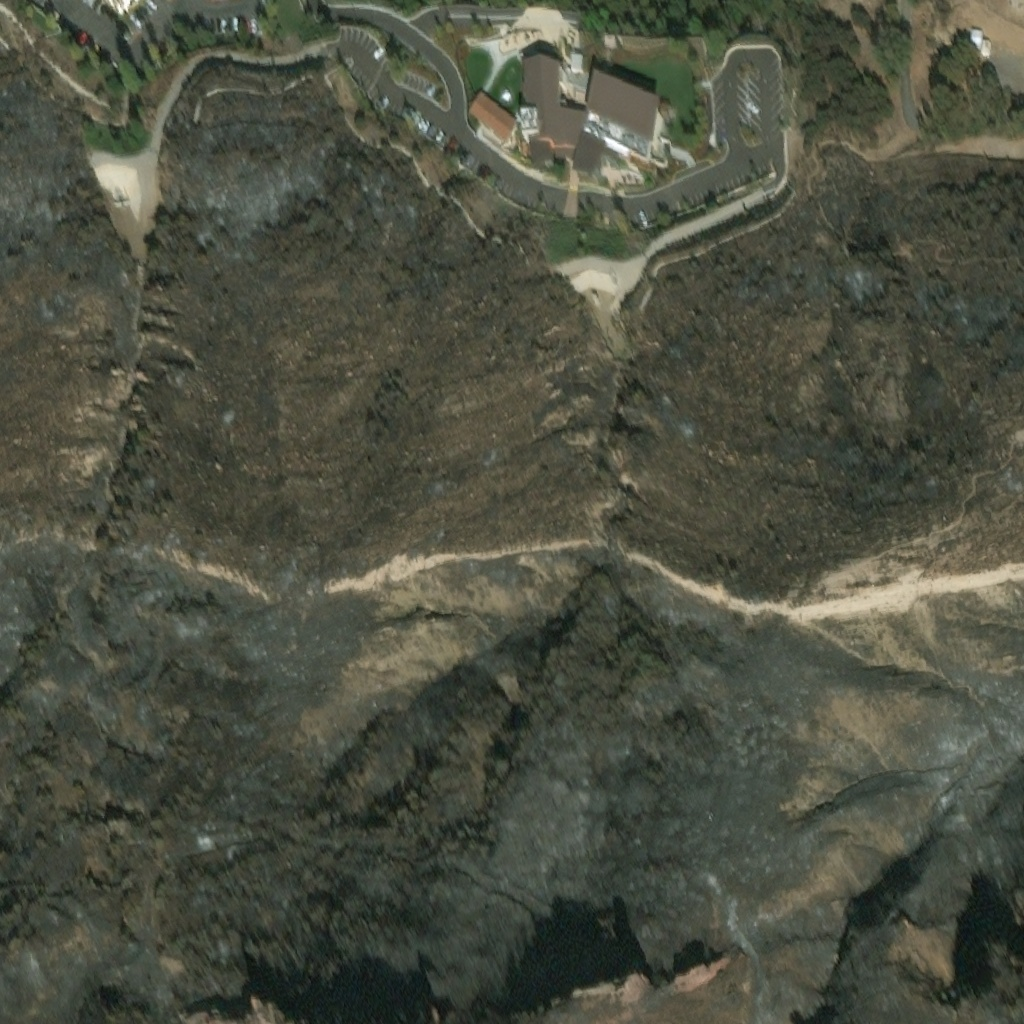0 no-damage: (572, 80, 676, 180), (524, 70, 589, 170), (468, 89, 518, 143), (969, 27, 991, 56), (572, 61, 588, 78), (110, 0, 126, 7)
